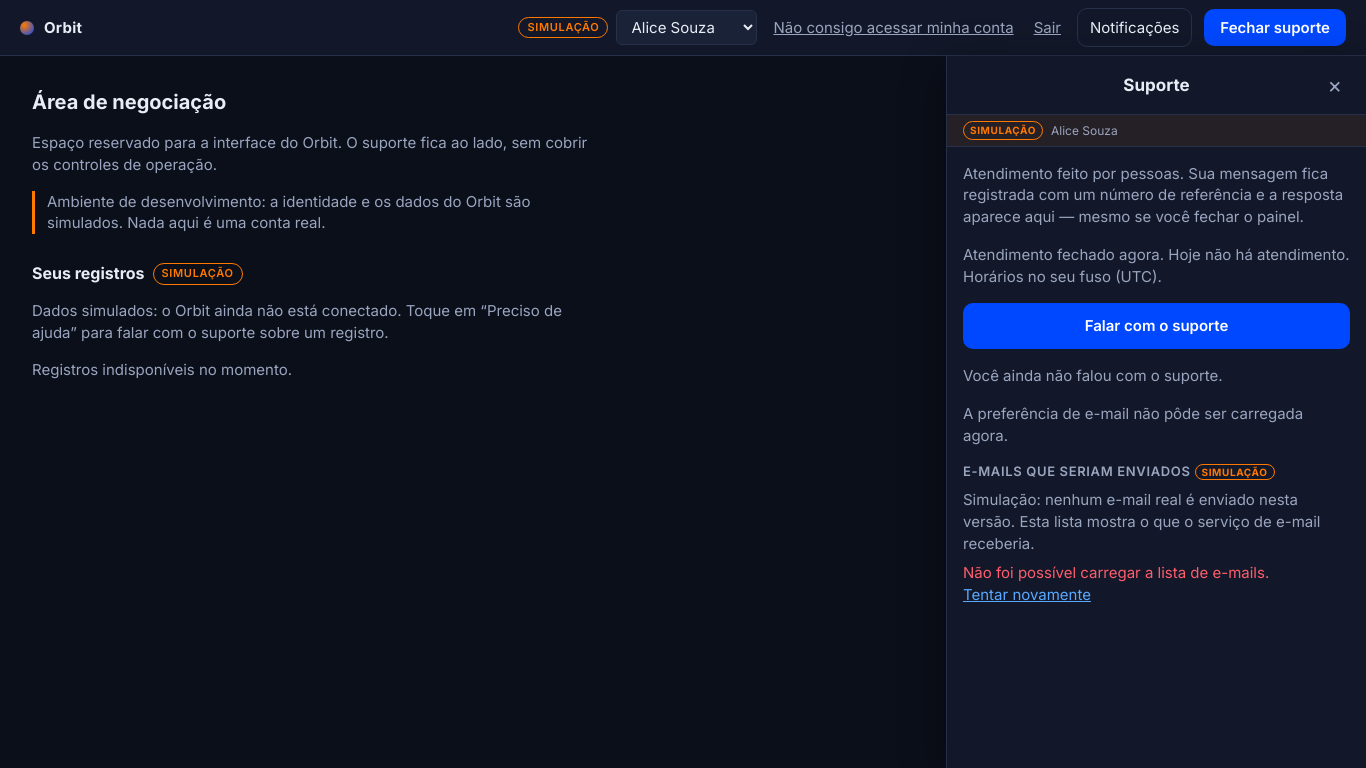
OrbitShell layouts (Cycle Audit 3) › FND-0090: a panel closed on desktop stays closed when the screen crosses to the mobile layout
Expected: the text "Você ainda não falou com o suporte." is shown, [963,366,1223,385]
Click the button named "Fechar suporte": {"x": 1335, "y": 85} [1319,68,1350,102]
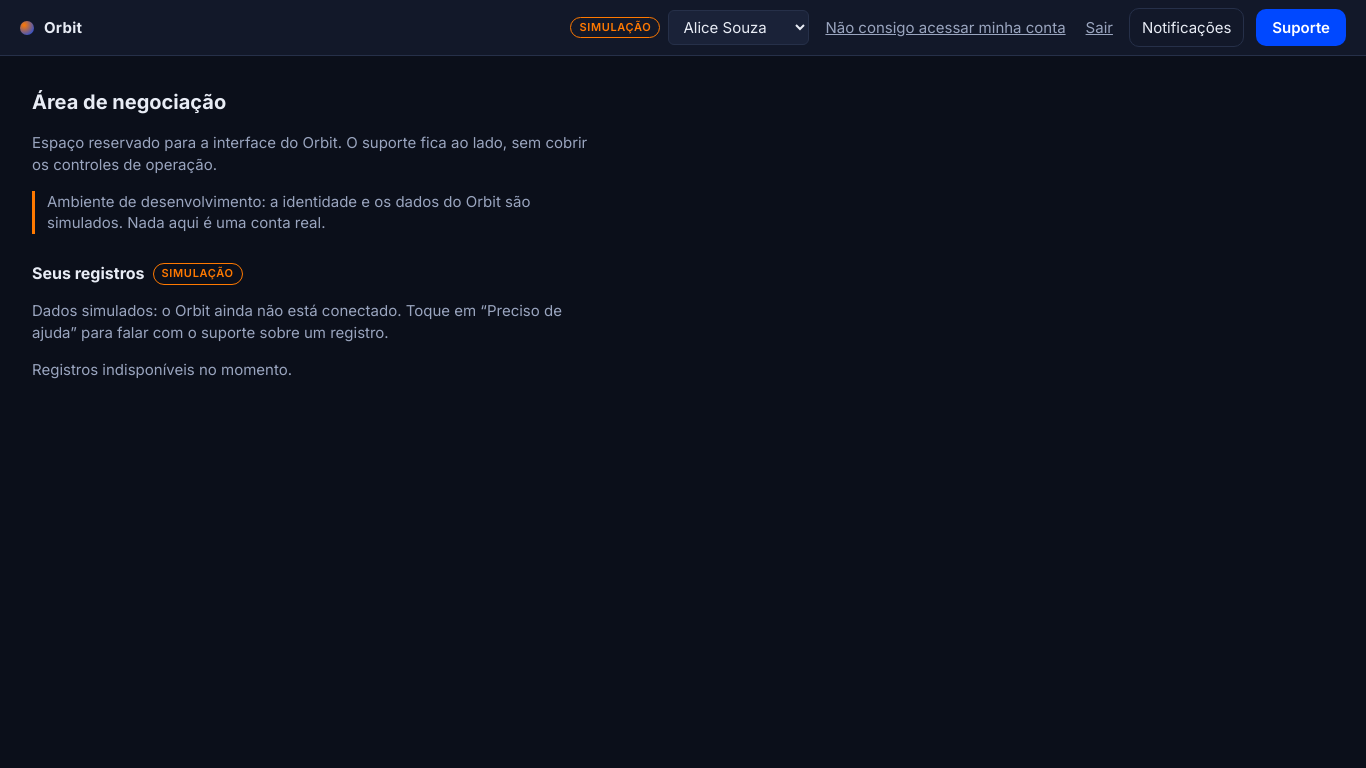
Result: the button "Suporte" is collapsed
Click the button "Suporte": {"x": 1301, "y": 28} [1256,9,1346,46]
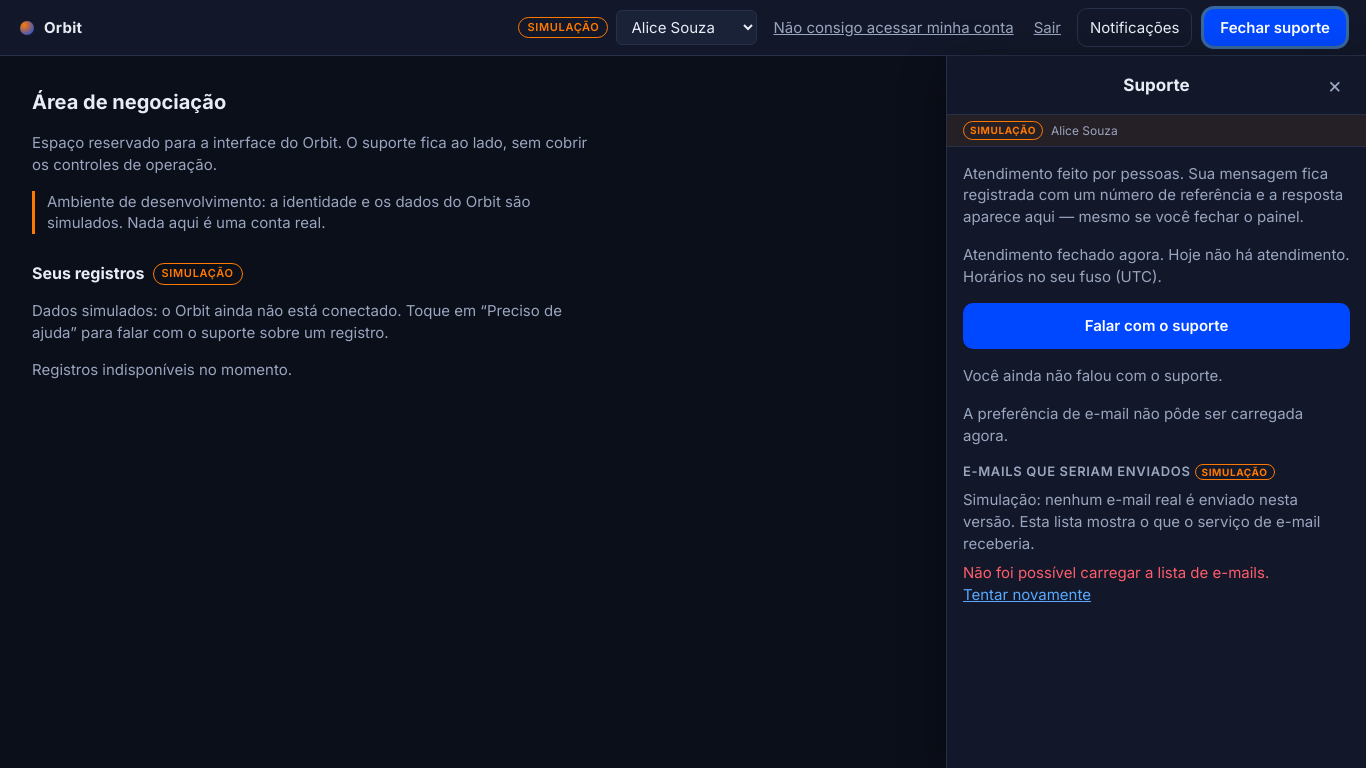
Result: the button "Fechar suporte" is expanded at [1204,9,1346,46]
Click the button named "Fechar suporte": {"x": 1335, "y": 85} [1319,68,1350,102]
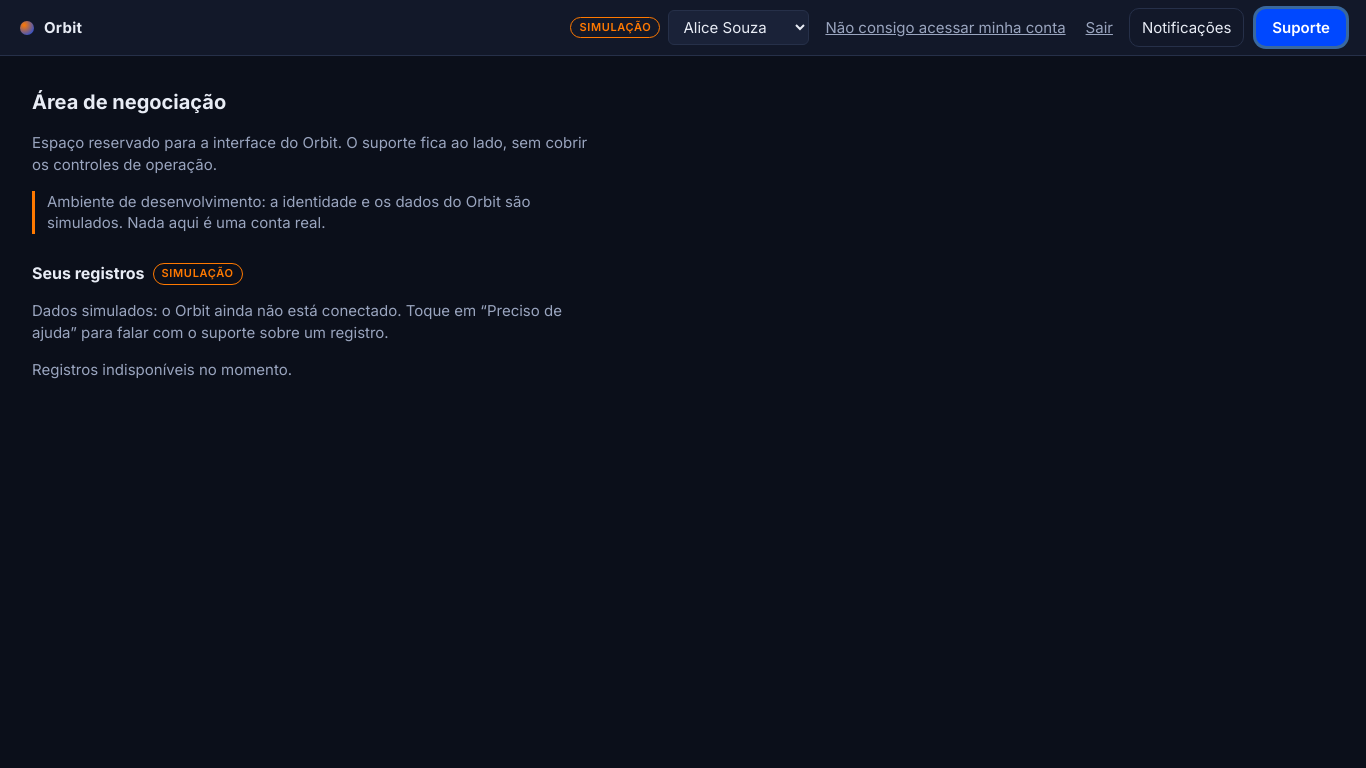
Result: the button "Suporte" is collapsed at [1256,9,1346,46]
